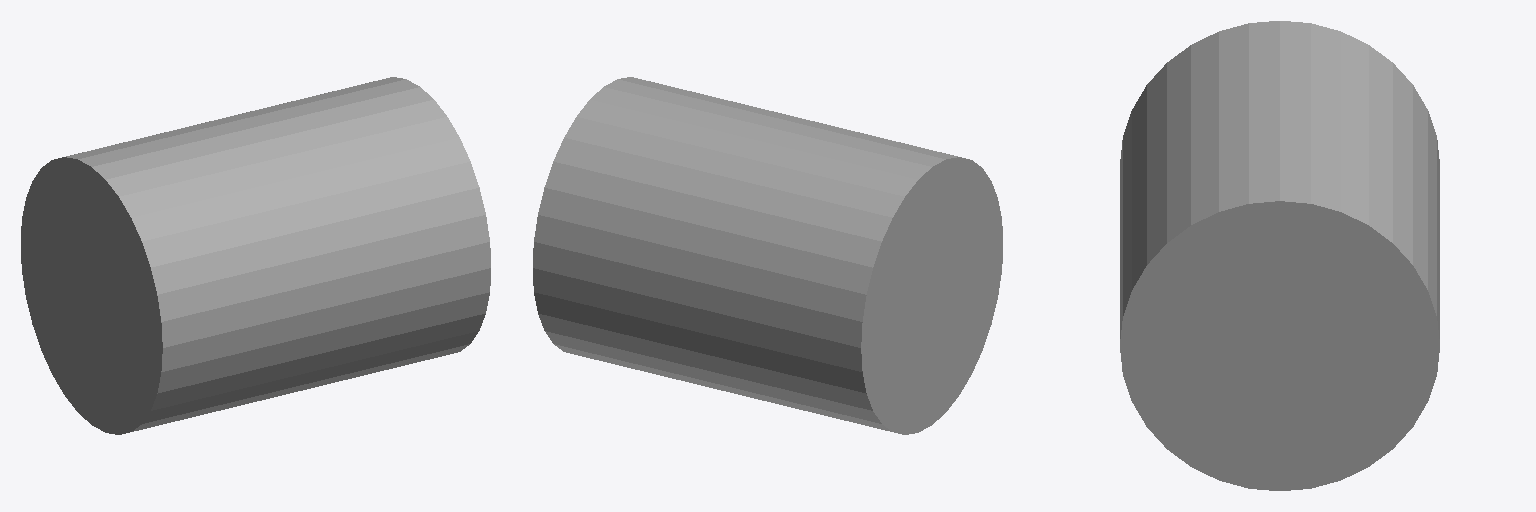
URDF robot description (panda):
<?xml version='1.0' encoding='utf-8'?>
<robot name="panda">

    <link name="link0">
      <inertial>
        <origin xyz="0 0 0.05" rpy="0 0 0" />
        <mass value="4" />
        <inertia ixx="0.4" iyy="0.4" izz="0.4" ixy="0" ixz="0" iyz="0" />
      </inertial>
      <visual>
        <geometry>
          <mesh filename="../../../Model/meshes_panda/visual/link0.obj"/>
        </geometry>
      </visual>
<!--       <collision>
        <geometry>
          <mesh filename="../../../Model/meshes/collision/link0.obj"/>
        </geometry>
      </collision> -->
    </link>
    <link name="link1">
      <inertial>
        <origin xyz="0 0 -0.07" rpy="0 -0 0" />
        <mass value="3" />
        <inertia ixx="0.3" iyy="0.3" izz="0.3" ixy="0" ixz="0" iyz="0" />
      </inertial>
      <visual>
        <geometry>
          <mesh filename="../../../Model/meshes_panda/visual/link1.obj"/>
        </geometry>
      </visual>
      <!-- <collision>
        <geometry>
          <mesh filename="../../../Model/meshes/collision/link1.obj"/>
        </geometry>
      </collision> -->
    </link>
    <link name="link2">
      <inertial>
        <origin xyz="0 -0.1 0" rpy="0 -0 0" />
        <mass value="3" />
        <inertia ixx="0.3" iyy="0.3" izz="0.3" ixy="0" ixz="0" iyz="0" />
      </inertial>
      <visual>
        <geometry>
          <mesh filename="../../../Model/meshes_panda/visual/link2.obj"/>
        </geometry>
      </visual>
      <!-- <collision>
        <geometry>
          <mesh filename="../../../Model/meshes/collision/link2.obj"/>
        </geometry>
      </collision> -->
    </link>
    <link name="link3">
      <inertial>
        <origin xyz="0.04 0 -0.05" rpy="0 -0 0" />
        <mass value="2" />
        <inertia ixx="0.2" iyy="0.2" izz="0.2" ixy="0" ixz="0" iyz="0" />
      </inertial>
      <visual>
        <geometry>
          <mesh filename="../../../Model/meshes_panda/visual/link3.obj"/>
        </geometry>
      </visual>
      <!-- <collision>
        <geometry>
          <mesh filename="../../../Model/meshes/collision/link3.obj"/>
        </geometry>
      </collision> -->
    </link>
    <link name="link4">
      <inertial>
        <origin xyz="-0.04 0.05 0" rpy="0 -0 0" />
        <mass value="2" />
        <inertia ixx="0.2" iyy="0.2" izz="0.2" ixy="0" ixz="0" iyz="0" />
      </inertial>
      <visual>
        <geometry>
          <mesh filename="../../../Model/meshes_panda/visual/link4.obj"/>
        </geometry>
      </visual>
<!--       <collision>
        <geometry>
          <mesh filename="../../../Model/meshes/collision/link4.obj"/>
        </geometry>
      </collision> -->
    </link>
    <link name="link5">
      <inertial>
        <origin xyz="0 0 -0.15" rpy="0 -0 0" />
        <mass value="2" />
        <inertia ixx="0.2" iyy="0.2" izz="0.2" ixy="0" ixz="0" iyz="0" />
      </inertial>
      <visual>
        <geometry>
          <mesh filename="../../../Model/meshes_panda/visual/link5.obj"/>
        </geometry>
      </visual>
<!--       <collision>
        <geometry>
          <mesh filename="../../../Model/meshes/collision/link5.obj"/>
        </geometry>
      </collision> -->
    </link>
    <link name="link6">
      <inertial>
        <origin xyz="0.06 0 0" rpy="0 -0 0" />
        <mass value="1.5" />
        <inertia ixx="0.1" iyy="0.1" izz="0.1" ixy="0" ixz="0" iyz="0" />
      </inertial>
      <visual>
        <geometry>
          <mesh filename="../../../Model/meshes_panda/visual/link6.obj"/>
        </geometry>
      </visual>
      <!-- <collision>
        <geometry>
          <mesh filename="../../../Model/meshes/collision/link6.obj"/>
        </geometry>
      </collision> -->
    </link>
    <link name="link7">
      <inertial>
        <origin xyz="0 0 0.17" rpy="0 -0 0" />
        <mass value="1.8" />
        <inertia ixx="0.09" iyy="0.05" izz="0.07" ixy="0" ixz="0" iyz="0" />
      </inertial>
      <visual>
        <geometry>
          <mesh filename="../../../Model/meshes_panda/visual/link7.obj"/>
        </geometry>
      </visual>
      <visual>
        <origin xyz="0 0 0.1" rpy="0 0 0" />
        <geometry>
          <!-- <sphere radius="0.04" /> -->
          <!-- <box size="0.04 0.04 0.04"/> -->
          <cylinder length="0.04" radius="0.015"/>
        </geometry>
      </visual>
      <collision>
        <origin xyz="0 0 0.1" rpy="0 0 0" />
        <geometry>
          <!-- <sphere radius="0.04" /> -->
          <!-- <box size="0.04 0.04 0.04"/> -->
          <cylinder length="0.04" radius="0.015"/>
        </geometry>
      </collision>



    </link>
    <joint name="joint1" type="revolute">
      <safety_controller k_position="100.0" k_velocity="40.0" soft_lower_limit="-2.8973" soft_upper_limit="2.8973"/>
      <origin rpy="0 0 0" xyz="0 0 0.333"/>
      <parent link="link0"/>
      <child link="link1"/>
      <axis xyz="0 0 1"/>
      <limit effort="87" lower="-2.8973" upper="2.8973" velocity="2.1750"/>
    </joint>
    <joint name="joint2" type="revolute">
      <safety_controller k_position="100.0" k_velocity="40.0" soft_lower_limit="-1.7628" soft_upper_limit="1.7628"/>
      <origin rpy="-1.57079632679 0 0" xyz="0 0 0"/>
      <parent link="link1"/>
      <child link="link2"/>
      <axis xyz="0 0 1"/>
      <calibration falling="-45.0" />
      <limit effort="87" lower="-1.7628" upper="1.7628" velocity="2.1750"/>
    </joint>
    <joint name="joint3" type="revolute">
      <safety_controller k_position="100.0" k_velocity="40.0" soft_lower_limit="-2.8973" soft_upper_limit="2.8973"/>
      <origin rpy="1.57079632679 0 0" xyz="0 -0.316 0"/>
      <parent link="link2"/>
      <child link="link3"/>
      <axis xyz="0 0 1"/>
      <limit effort="87" lower="-2.8973" upper="2.8973" velocity="2.1750"/>
    </joint>
    <joint name="joint4" type="revolute">
      <safety_controller k_position="100.0" k_velocity="40.0" soft_lower_limit="-3.0718" soft_upper_limit="-0.0698"/>
      <origin rpy="1.57079632679 0 0" xyz="0.0825 0 0"/>
      <parent link="link3"/>
      <child link="link4"/>
      <axis xyz="0 0 1"/>
      <calibration falling="-125.0" />
      <limit effort="87" lower="-3.0718" upper="-0.0698" velocity="2.1750"/>
    </joint>
    <joint name="joint5" type="revolute">
      <safety_controller k_position="100.0" k_velocity="40.0" soft_lower_limit="-2.8973" soft_upper_limit="2.8973"/>
      <origin rpy="-1.57079632679 0 0" xyz="-0.0825 0.384 0"/>
      <parent link="link4"/>
      <child link="link5"/>
      <axis xyz="0 0 1"/>
      <limit effort="12" lower="-2.8973" upper="2.8973" velocity="2.6100"/>
    </joint>
    <joint name="joint6" type="revolute">
      <safety_controller k_position="100.0" k_velocity="40.0" soft_lower_limit="-0.0175" soft_upper_limit="3.7525"/>
      <origin rpy="1.57079632679 0 0" xyz="0 0 0"/>
      <parent link="link5"/>
      <child link="link6"/>
      <axis xyz="0 0 1"/>
      <calibration falling="80.0" />
      <limit effort="12" lower="-0.0175" upper="3.7525" velocity="2.6100"/>
    </joint>
    <joint name="joint7" type="revolute">
      <safety_controller k_position="100.0" k_velocity="40.0" soft_lower_limit="-2.8973" soft_upper_limit="2.8973"/>
      <origin rpy="1.57079632679 0 0" xyz="0.088 0 0"/>
      <parent link="link6"/>
      <child link="link7"/>
      <axis xyz="0 0 1"/>
      <limit effort="12" lower="-2.8973" upper="2.8973" velocity="2.6100"/>
    </joint>
</robot>

--- Facts derived from the render (not from the file) ---
Views: 3 orthographic renders of the robot side by side, from view 1: azimuth 30°, elevation 25°; view 2: azimuth 150°, elevation 25°; view 3: azimuth 270°, elevation 25°.
Model panda with 8 links and 7 joints (7 revolute), rooted at link0, posed joints at zero except 1 at the middle of their limits (joint4 = -1.57).
Visible links, largest first — view 1: link7; view 2: link7; view 3: link7.
Boxes of the visible links, x1=… form: link7: x1=21, y1=77, x2=490, y2=434; link7: x1=533, y1=77, x2=1002, y2=434; link7: x1=1120, y1=21, x2=1439, y2=490.
Size in the robot's own frame: 0.04 by 0.03 by 0.03 metres.
Geometry: only primitive shapes (box / cylinder / sphere) drawn; not drawn: 8 mesh visuals (reference in a form the renderer does not follow).